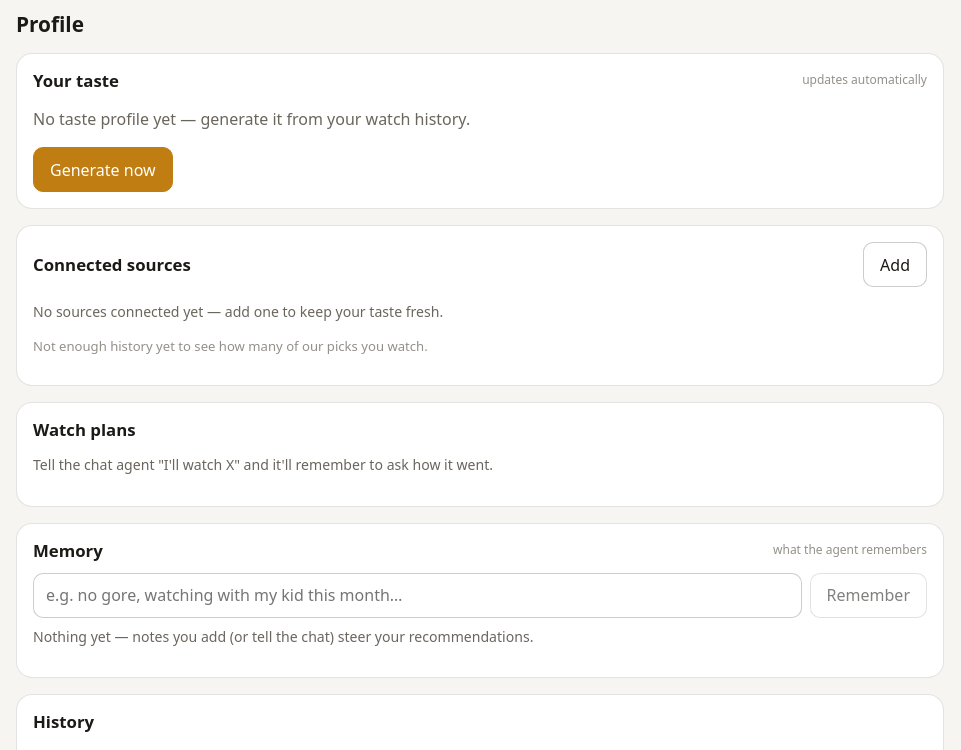
Test case: Profile taste generation › surfaces the backend error when generation fails
Click the button with test id "taste-generate": (103, 170) [33,147,173,192]
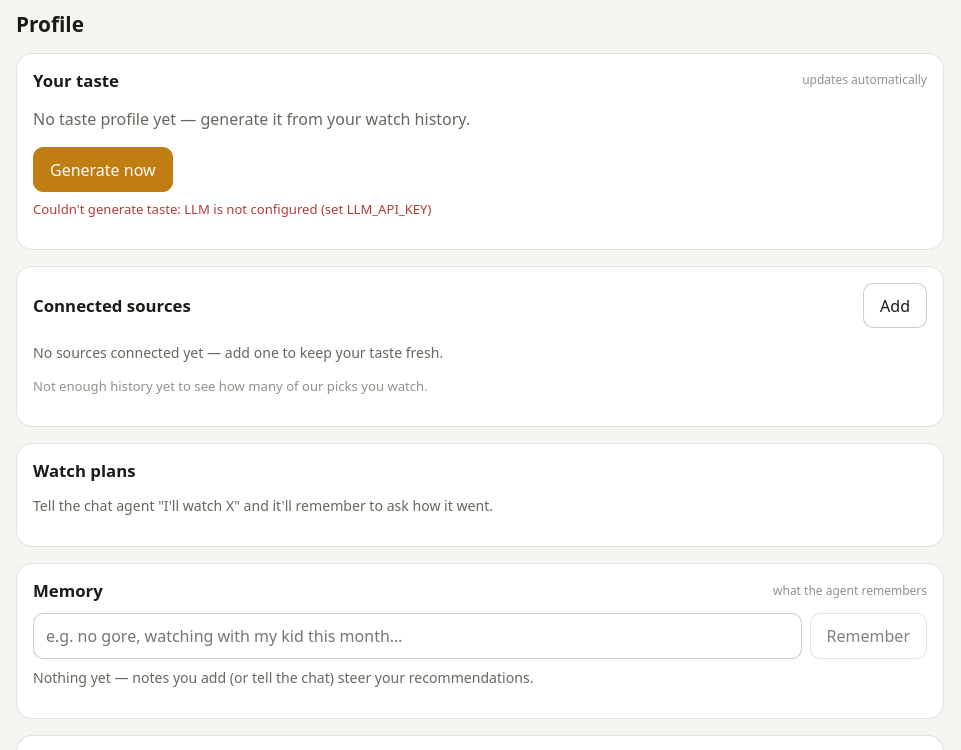
Now the message with test id "taste-generate-error" shows "LLM is not configured (set LLM_API_KEY)", box [33,200,431,218]
